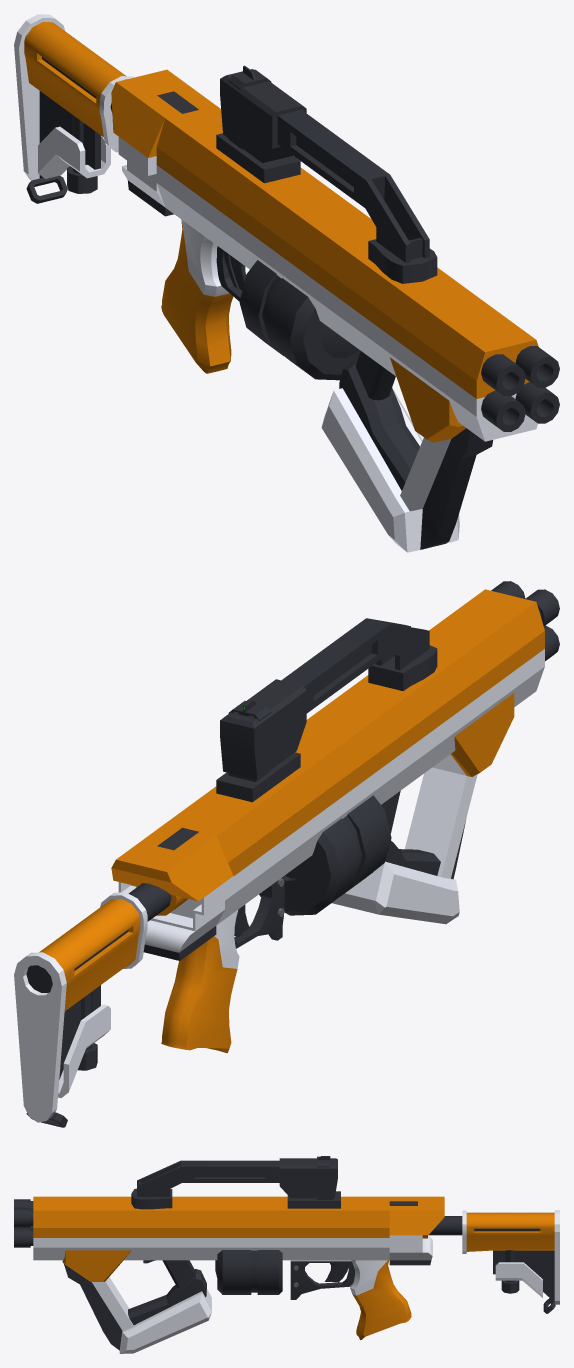
The picture shows the model from 3 angles, top to bottom: view 1: azimuth 30°, elevation 25°; view 2: azimuth 150°, elevation 25°; view 3: azimuth 270°, elevation 25°; orthographic projection. The views are drawn at different scales.
Visible parts, largest first — view 1: mergedBlocks; view 2: mergedBlocks; view 3: mergedBlocks.
Part boxes in pixels (bbox=[...]): mergedBlocks: bbox=[14, 14, 559, 552]; mergedBlocks: bbox=[14, 581, 559, 1127]; mergedBlocks: bbox=[14, 1156, 559, 1353].
Size of the model in its own units: 0.5946 by 1.92 by 4.97.
